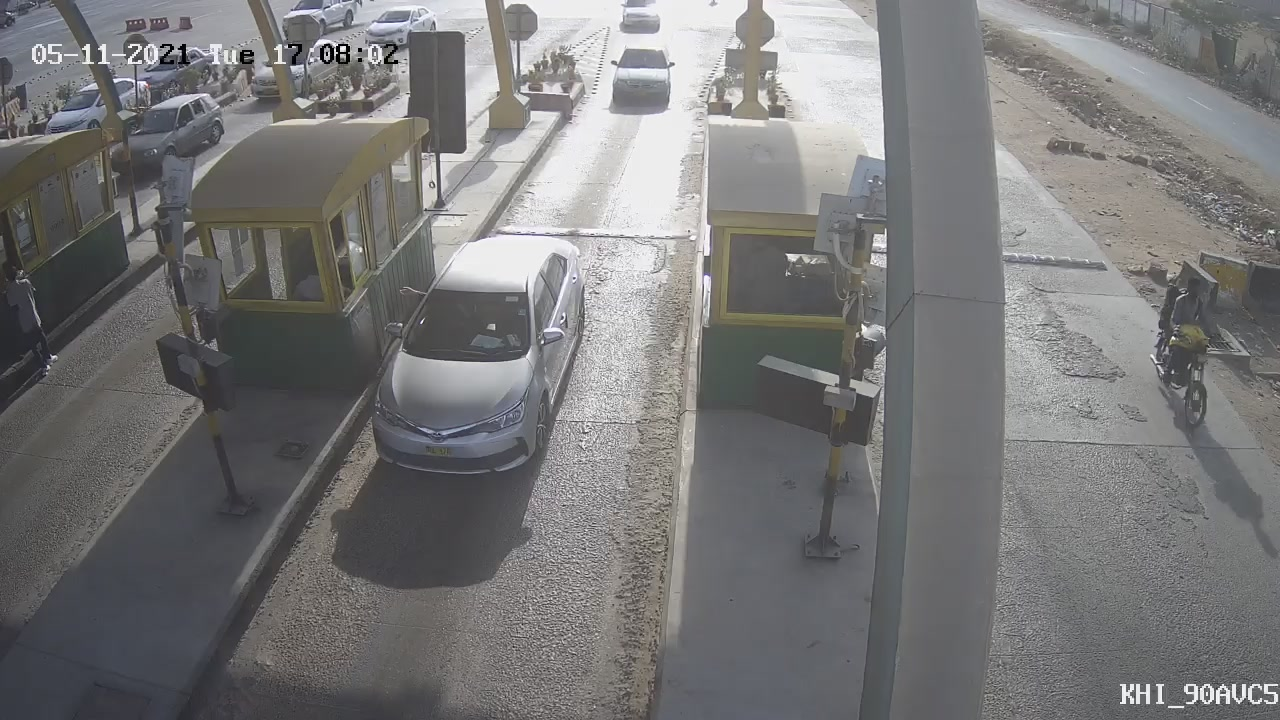F1: (348, 217, 600, 492)
